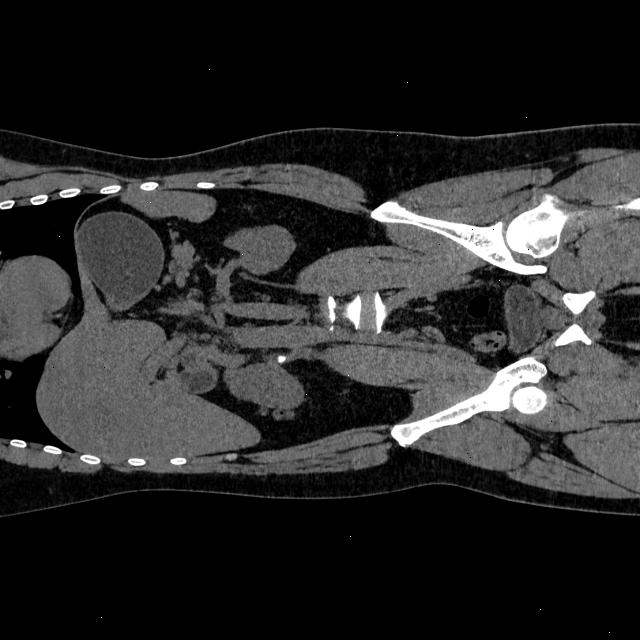kidneystone: (276, 354, 286, 362)
